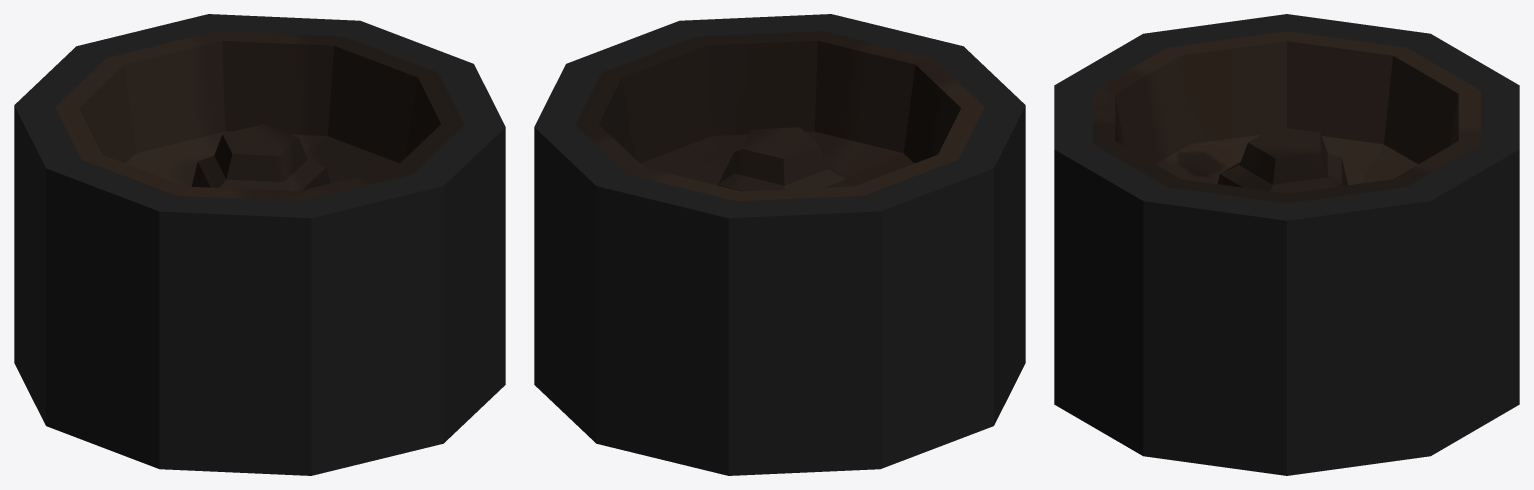
The model's file is SM_Prop_Vehicle_Debris_04.fbx.
3 renders of one model, left to right at view 1: azimuth 30°, elevation 25°; view 2: azimuth 150°, elevation 25°; view 3: azimuth 270°, elevation 25°, orthographic.
Parts seen in each view (by area): view 1: SM_Prop_Vehicle_Debris_04; view 2: SM_Prop_Vehicle_Debris_04; view 3: SM_Prop_Vehicle_Debris_04.
Part boxes in pixels (x1=…): SM_Prop_Vehicle_Debris_04: x1=14, y1=14, x2=505, y2=475; SM_Prop_Vehicle_Debris_04: x1=534, y1=14, x2=1025, y2=475; SM_Prop_Vehicle_Debris_04: x1=1054, y1=14, x2=1519, y2=475.
Size of the model in its own units: 56.75 by 32.65 by 53.97.
